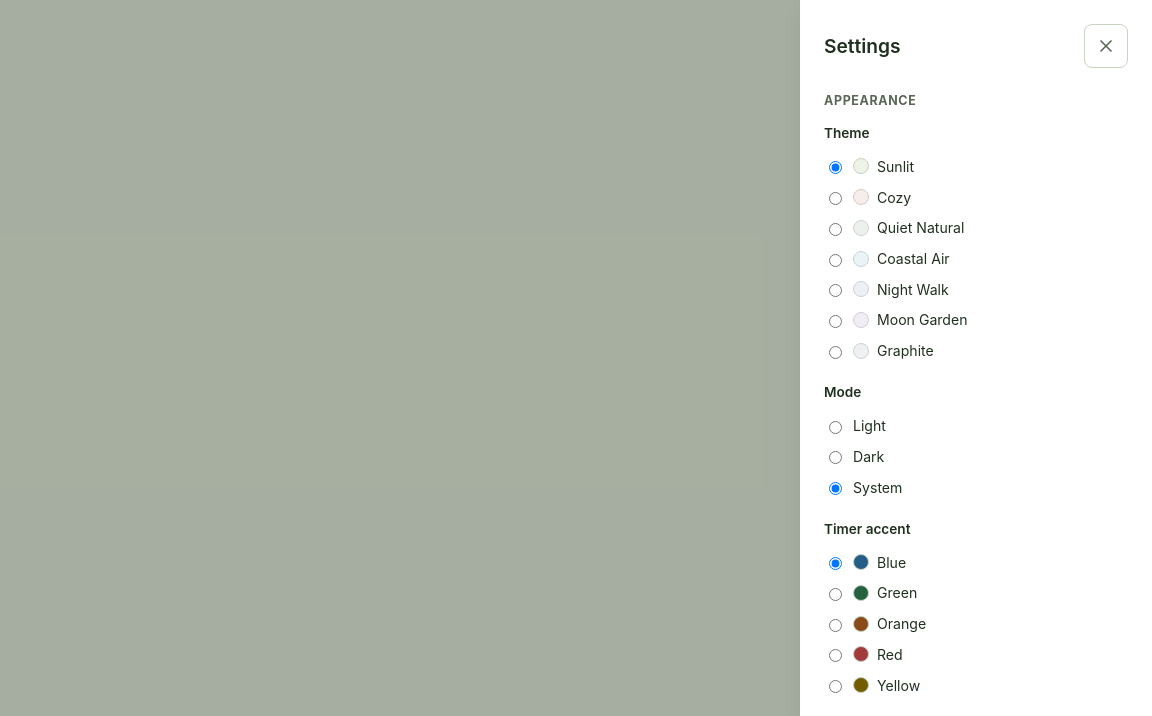
Test: SettingsDrawer › shows a quiet inline Retry only for a key that failed, and Retry re-persists its current value
This screenshot has width=1152, height=716.
Click the radio button labelled "Green" at point(836, 594), box [829, 588, 842, 601]
(page scrolled)
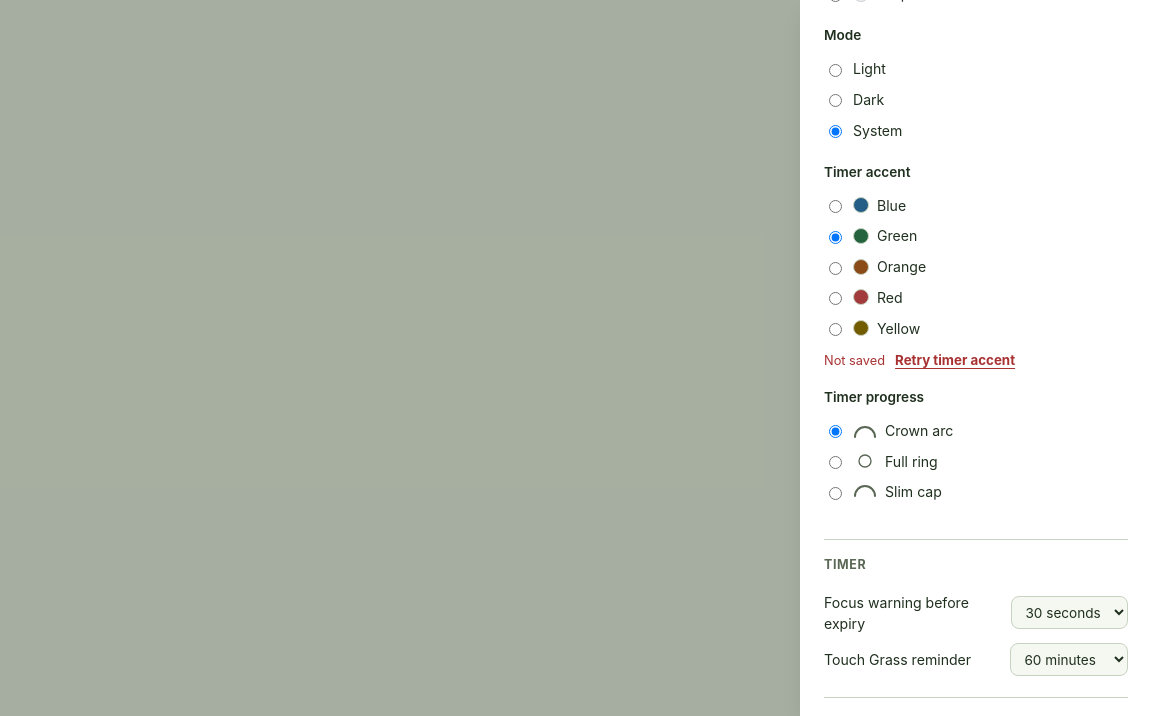
Result: the button "Retry timer accent" is shown
Click the button "Retry timer accent" at point(955, 360), box [895, 352, 1015, 368]
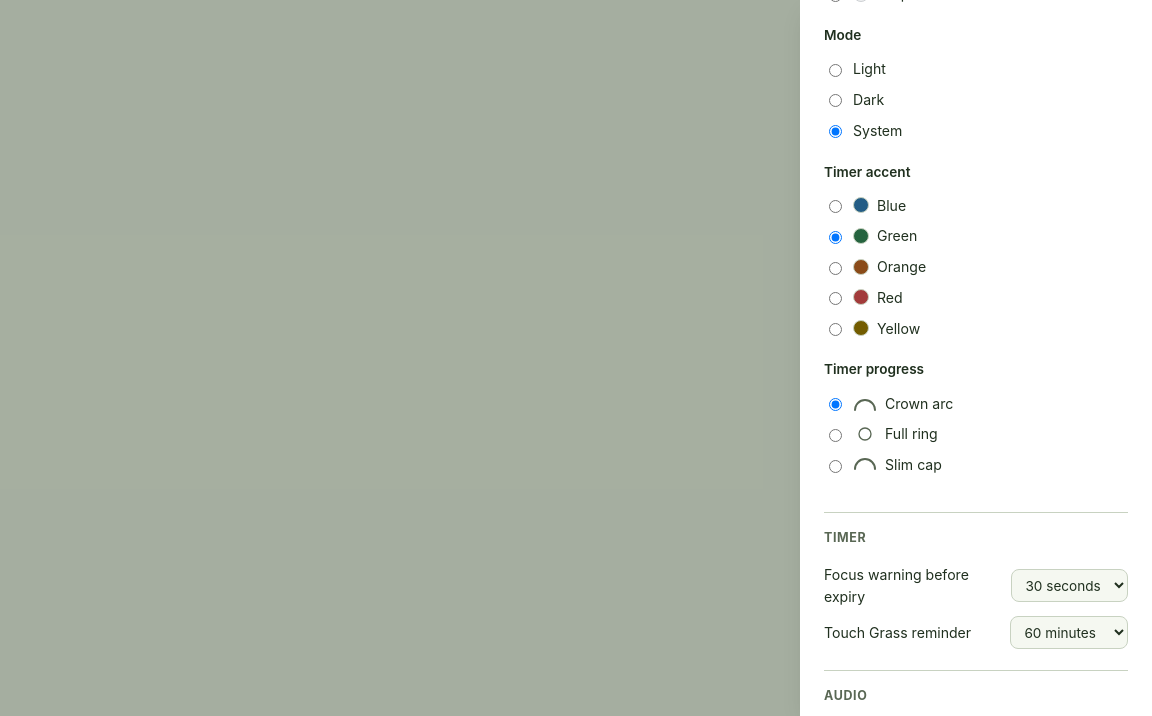
Result: the button "Retry timer accent" is gone
